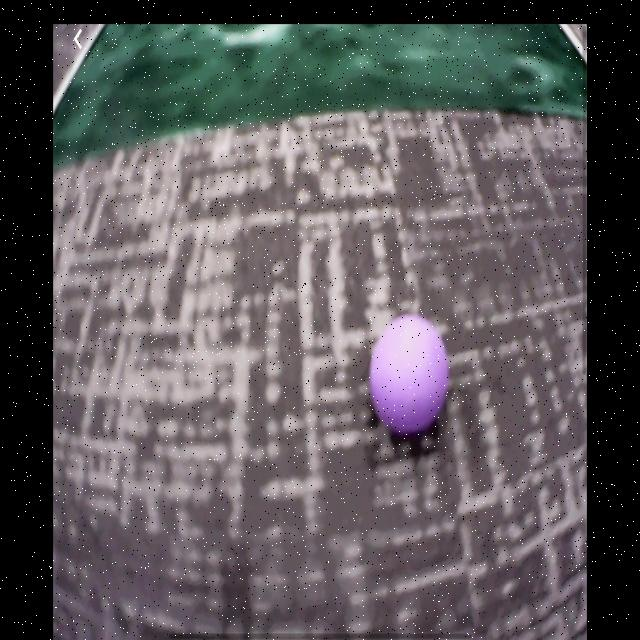ball: (369, 316, 451, 437)
